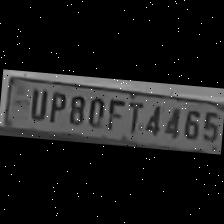0: (84, 92, 106, 129)
4: (140, 101, 164, 138), (160, 103, 181, 139)
5: (198, 106, 223, 143)
6: (180, 106, 201, 140)
8: (64, 90, 86, 127)
F: (104, 96, 125, 133)
P: (44, 87, 66, 125)
T: (122, 99, 143, 136)
U: (23, 85, 48, 122)
